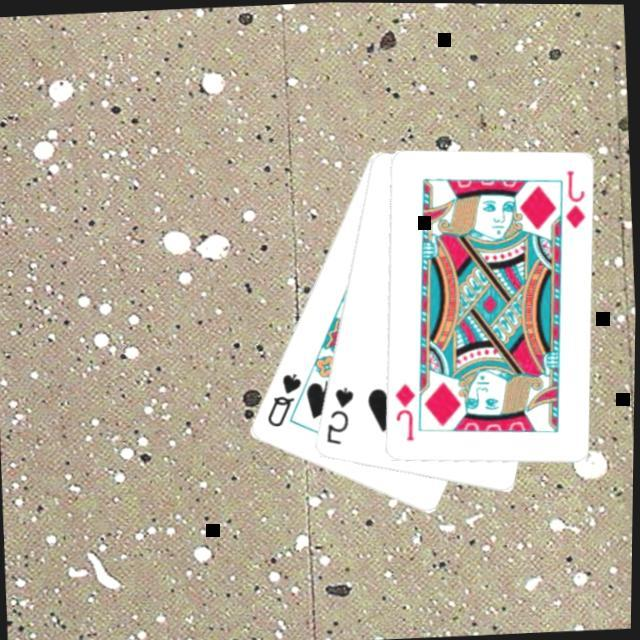5S: (319, 384, 358, 448)
JD: (390, 380, 420, 445), (558, 167, 588, 232)
QS: (260, 370, 306, 432)
